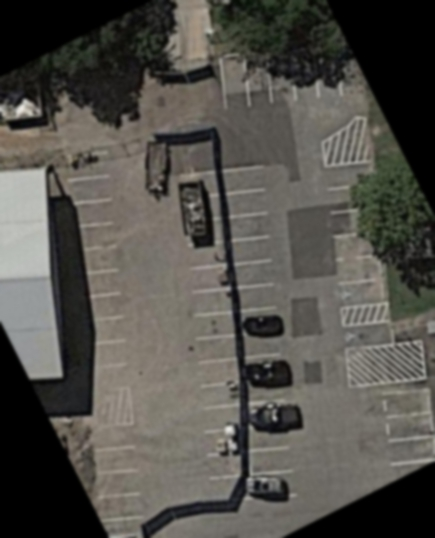parkingspot: (218, 162, 299, 501), (59, 149, 131, 371), (186, 238, 241, 434), (321, 159, 386, 308), (217, 46, 344, 111), (87, 421, 147, 522), (375, 383, 435, 484), (339, 320, 394, 352), (202, 449, 245, 481)
